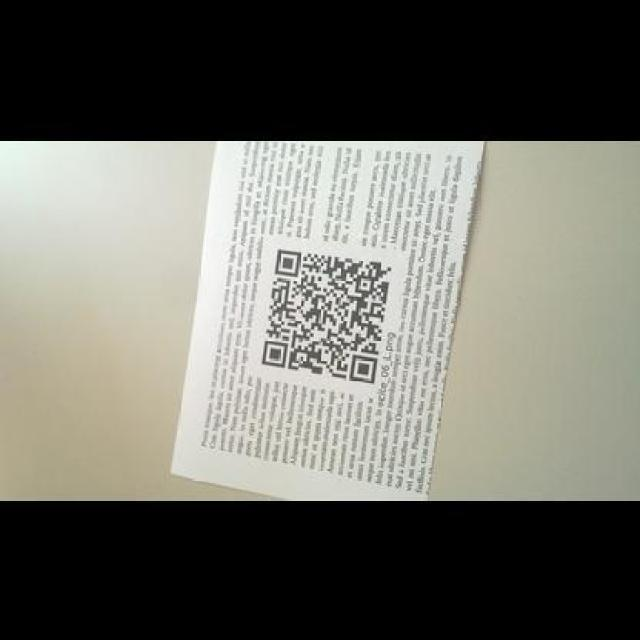QRCode: (260, 234, 396, 386)
